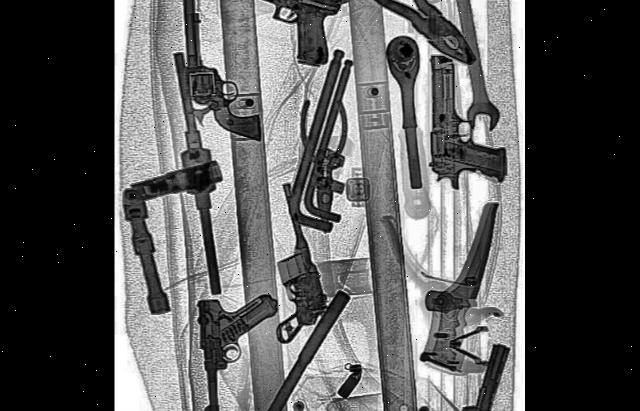Gun: (245, 172, 330, 347), (179, 0, 261, 154), (194, 279, 282, 411), (426, 45, 507, 188), (418, 308, 510, 411), (243, 0, 340, 70)
Pliers: (324, 0, 483, 87), (300, 97, 346, 227)
Wrench: (438, 0, 501, 139)
